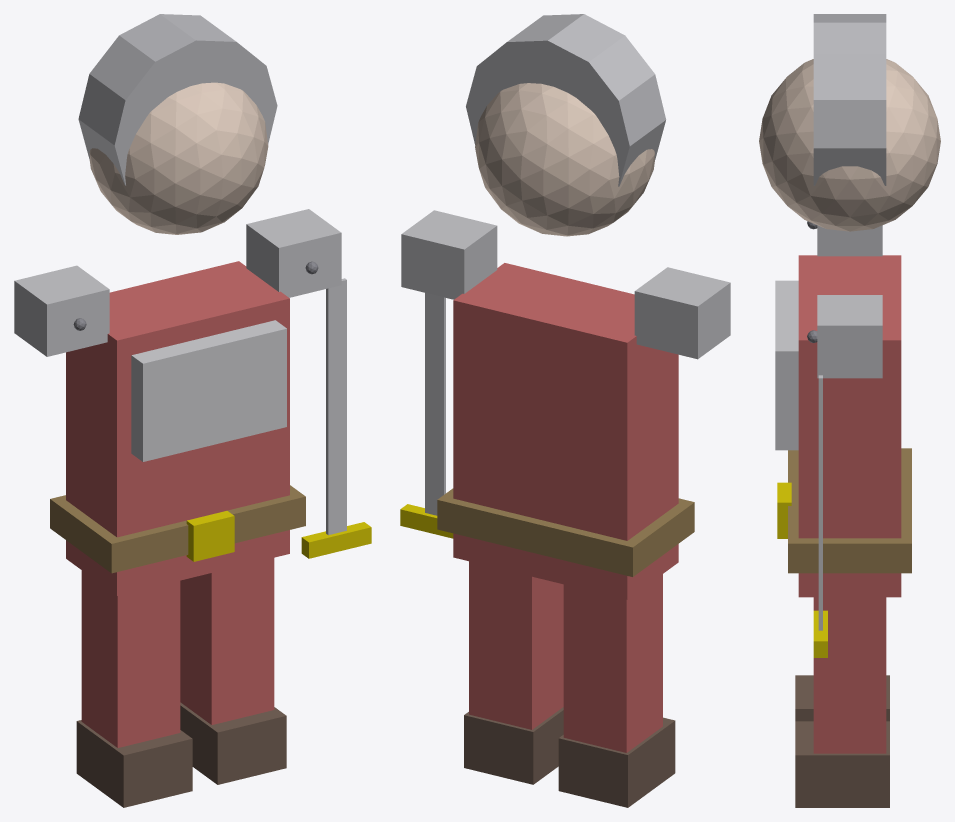
The model's file is warrior_f.glb.
3 views of the same model, side by side, from view 1: azimuth 30°, elevation 25°; view 2: azimuth 150°, elevation 25°; view 3: azimuth 270°, elevation 25° (orthographic).
Visible parts, largest first — view 1: geometry_0; view 2: geometry_0; view 3: geometry_0.
Boxes of the visible parts, x1,y1,x2,y2 form: geometry_0: (14,14,371,807); geometry_0: (400,14,730,807); geometry_0: (759,14,940,807).
Bounding box in the file's own units: 1.03 × 2.26 × 0.5.
